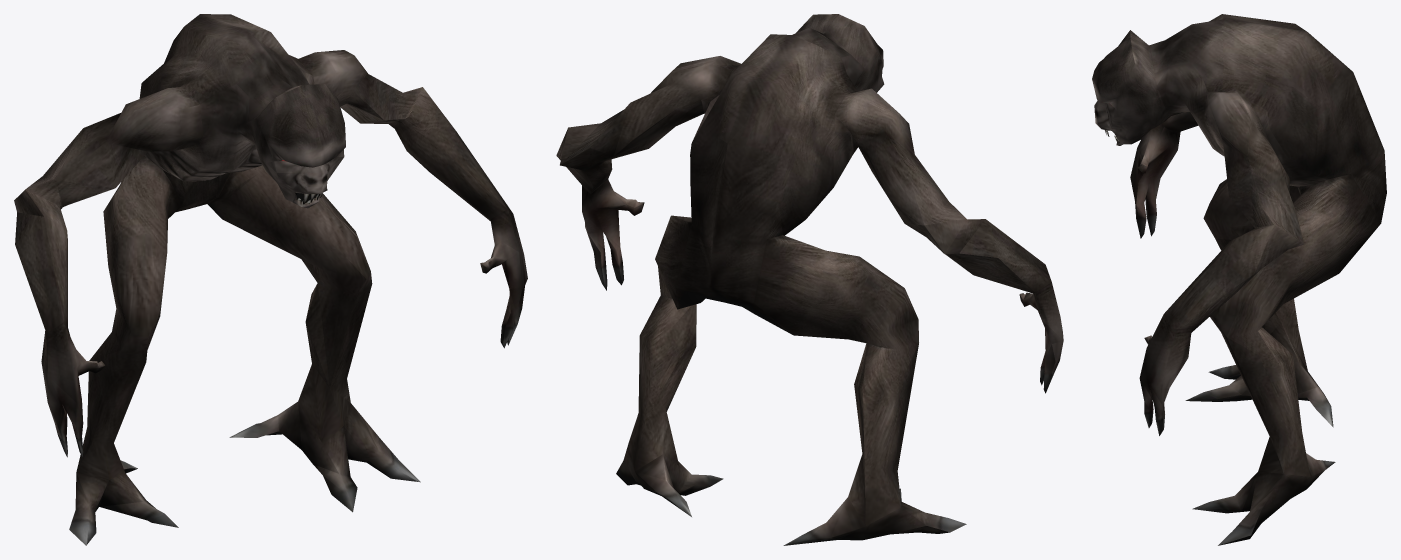
The model's file is monkey.obj.
3 views of the same model, side by side, from view 1: azimuth 30°, elevation 25°; view 2: azimuth 150°, elevation 25°; view 3: azimuth 270°, elevation 25° (orthographic). The views are drawn at different scales.
Visible parts, largest first — view 1: Group; view 2: Group; view 3: Group.
Part boxes in pixels (x1=…): Group: x1=14, y1=14, x2=527, y2=545; Group: x1=556, y1=14, x2=1063, y2=545; Group: x1=1092, y1=14, x2=1386, y2=545.
Bounding box in the file's own units: 88.03 × 84.87 × 50.35.
